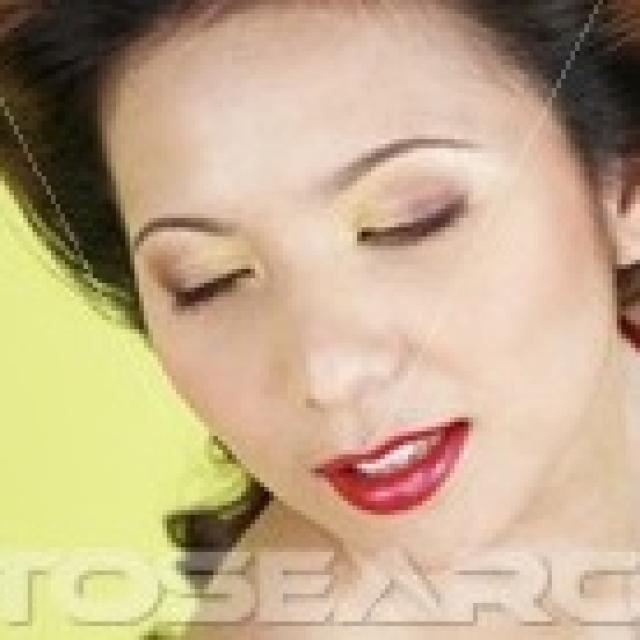Eyeclosed: (354, 190, 468, 257), (166, 260, 252, 323)
